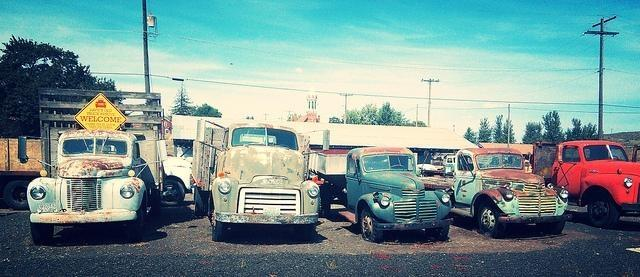truck: (188, 116, 331, 244), (308, 144, 454, 244), (422, 148, 574, 240), (28, 130, 150, 244), (528, 139, 640, 228)
